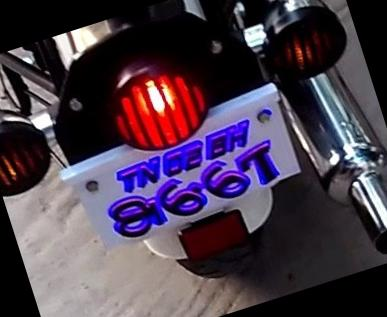plate: (59, 98, 306, 260)
